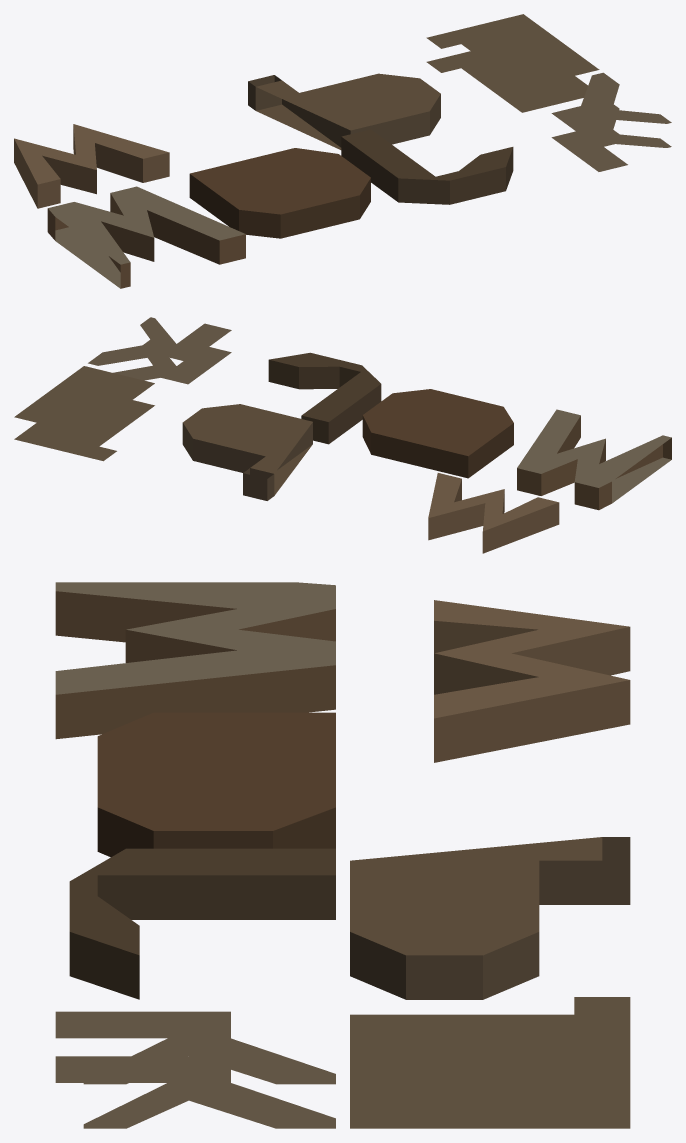
The model's file is section-6.obj.
The picture shows the model from 3 angles, top to bottom: view 1: azimuth 30°, elevation 25°; view 2: azimuth 150°, elevation 25°; view 3: azimuth 270°, elevation 25°; orthographic projection. The views are drawn at different scales.
Size of the model in its own units: 1 by 0.0413 by 0.4838.
